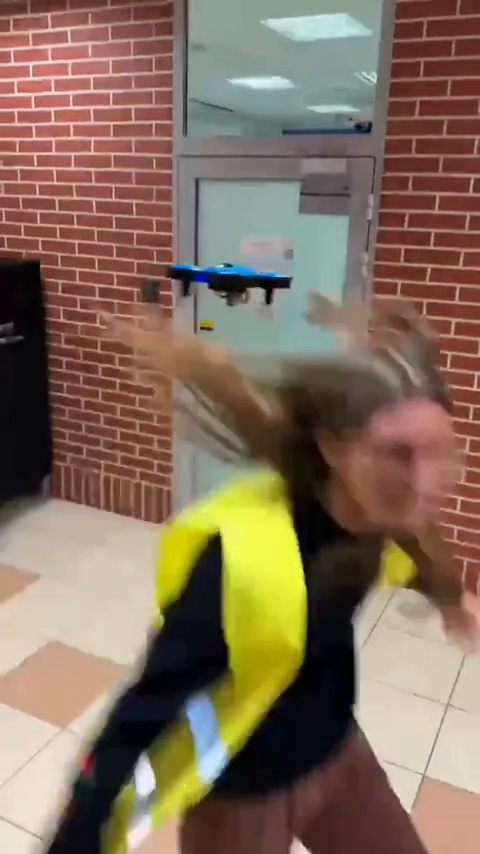drone: (173, 261, 297, 309)
vest: (131, 274, 466, 848)
